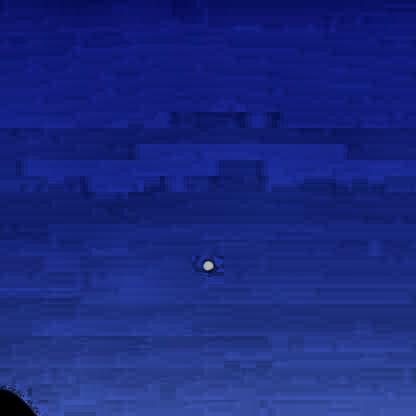golfball: (200, 255, 214, 270)
